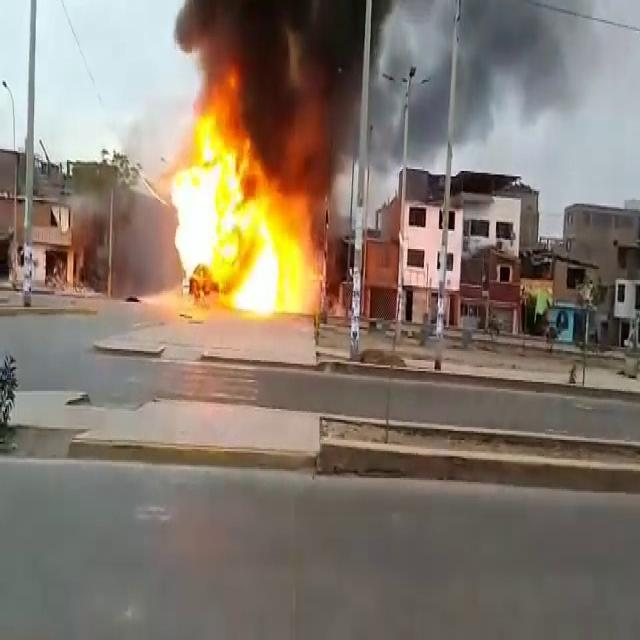Fire: (162, 96, 324, 320)
Smoke: (164, 0, 637, 165)
